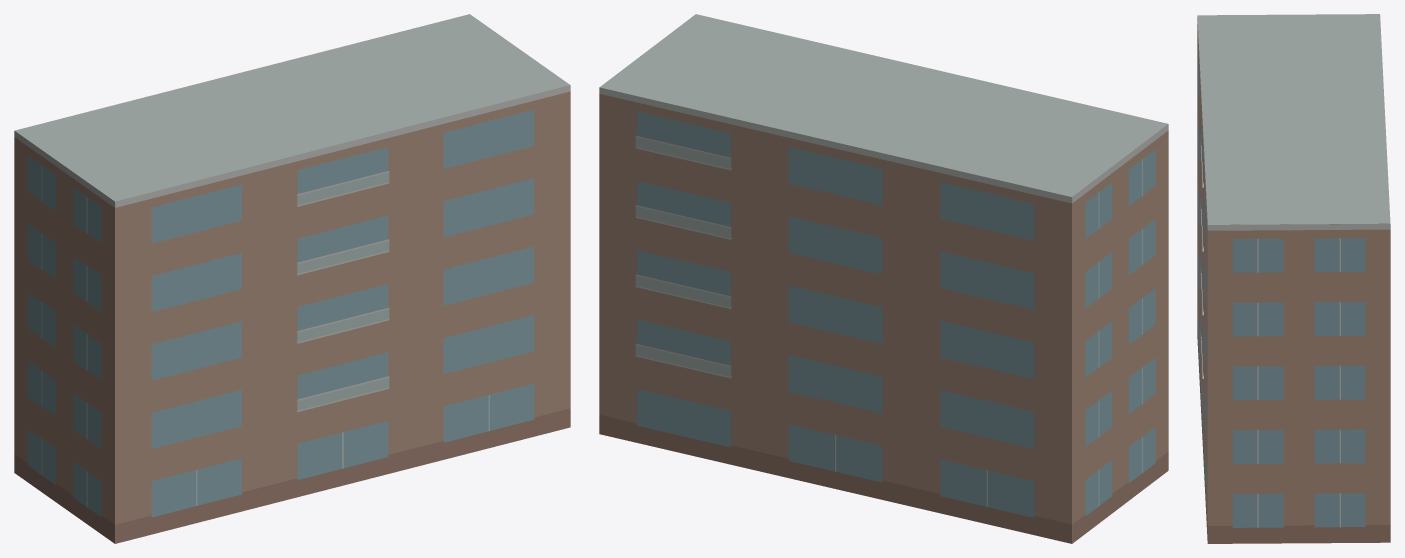
The model's file is survey-upis-32673291.glb.
3 views of the same model, side by side, from view 1: azimuth 30°, elevation 25°; view 2: azimuth 150°, elevation 25°; view 3: azimuth 270°, elevation 25° (orthographic). The views are drawn at different scales.
Parts seen in each view (by area): view 1: survey-upis-32673291.tmp; view 2: survey-upis-32673291.tmp; view 3: survey-upis-32673291.tmp.
Part boxes in pixels (x1=…): survey-upis-32673291.tmp: x1=14, y1=14, x2=570, y2=543; survey-upis-32673291.tmp: x1=599, y1=14, x2=1168, y2=543; survey-upis-32673291.tmp: x1=1197, y1=14, x2=1390, y2=543.
Bounding box in the file's own units: 18.87 × 13.3 × 7.31.
